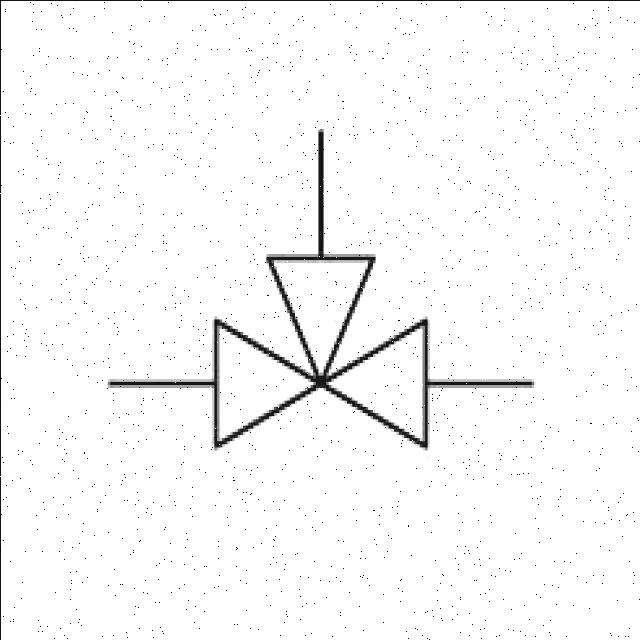3 Way Gate Valve: (162, 185, 474, 510)
